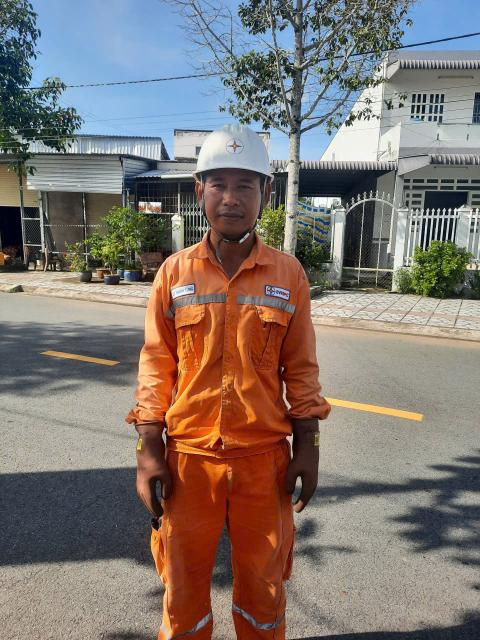gloves: (121, 418, 182, 512), (283, 412, 322, 513)
helmet: (192, 112, 281, 195)
